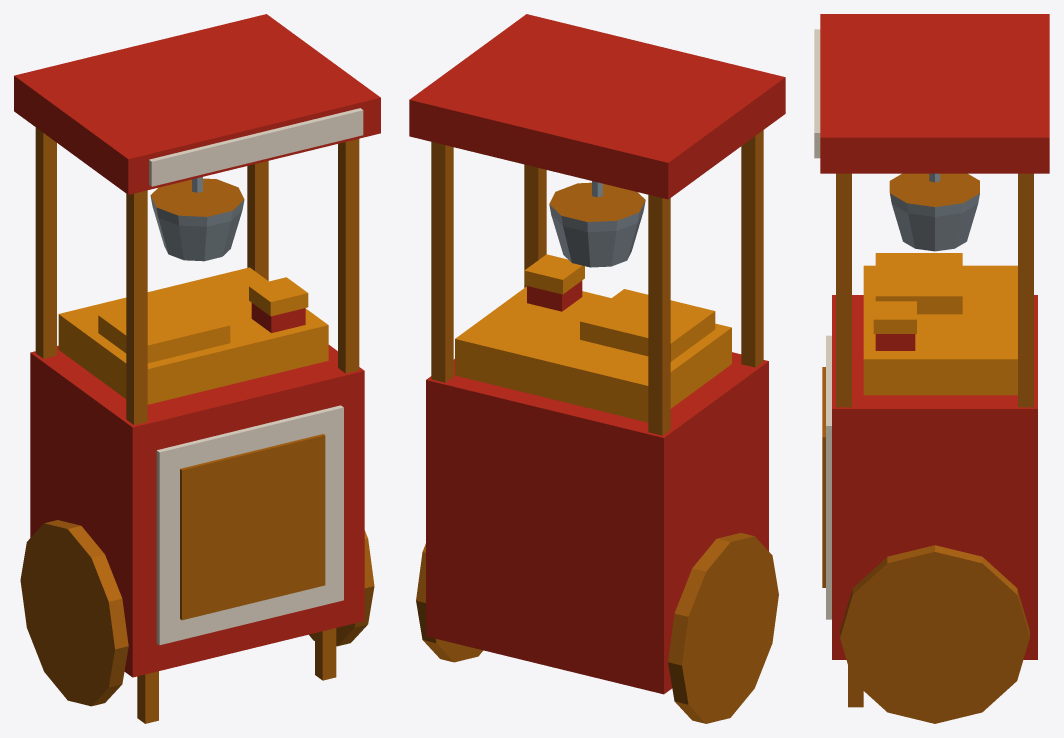
Rendered from cozy_bowling_popcorn_cart.obj.
3 renders of one model, left to right at view 1: azimuth 30°, elevation 25°; view 2: azimuth 150°, elevation 25°; view 3: azimuth 270°, elevation 25°, orthographic. The views are drawn at different scales.
Parts seen in each view (by area): view 1: Popcorn_Mesh; view 2: Popcorn_Mesh; view 3: Popcorn_Mesh.
Part boxes in pixels (x1,y1,x2,y2): Popcorn_Mesh: (14, 14, 380, 723); Popcorn_Mesh: (409, 14, 785, 723); Popcorn_Mesh: (814, 14, 1049, 723).
Bounding box in the file's own units: 0.76 × 1.63 × 0.595.
